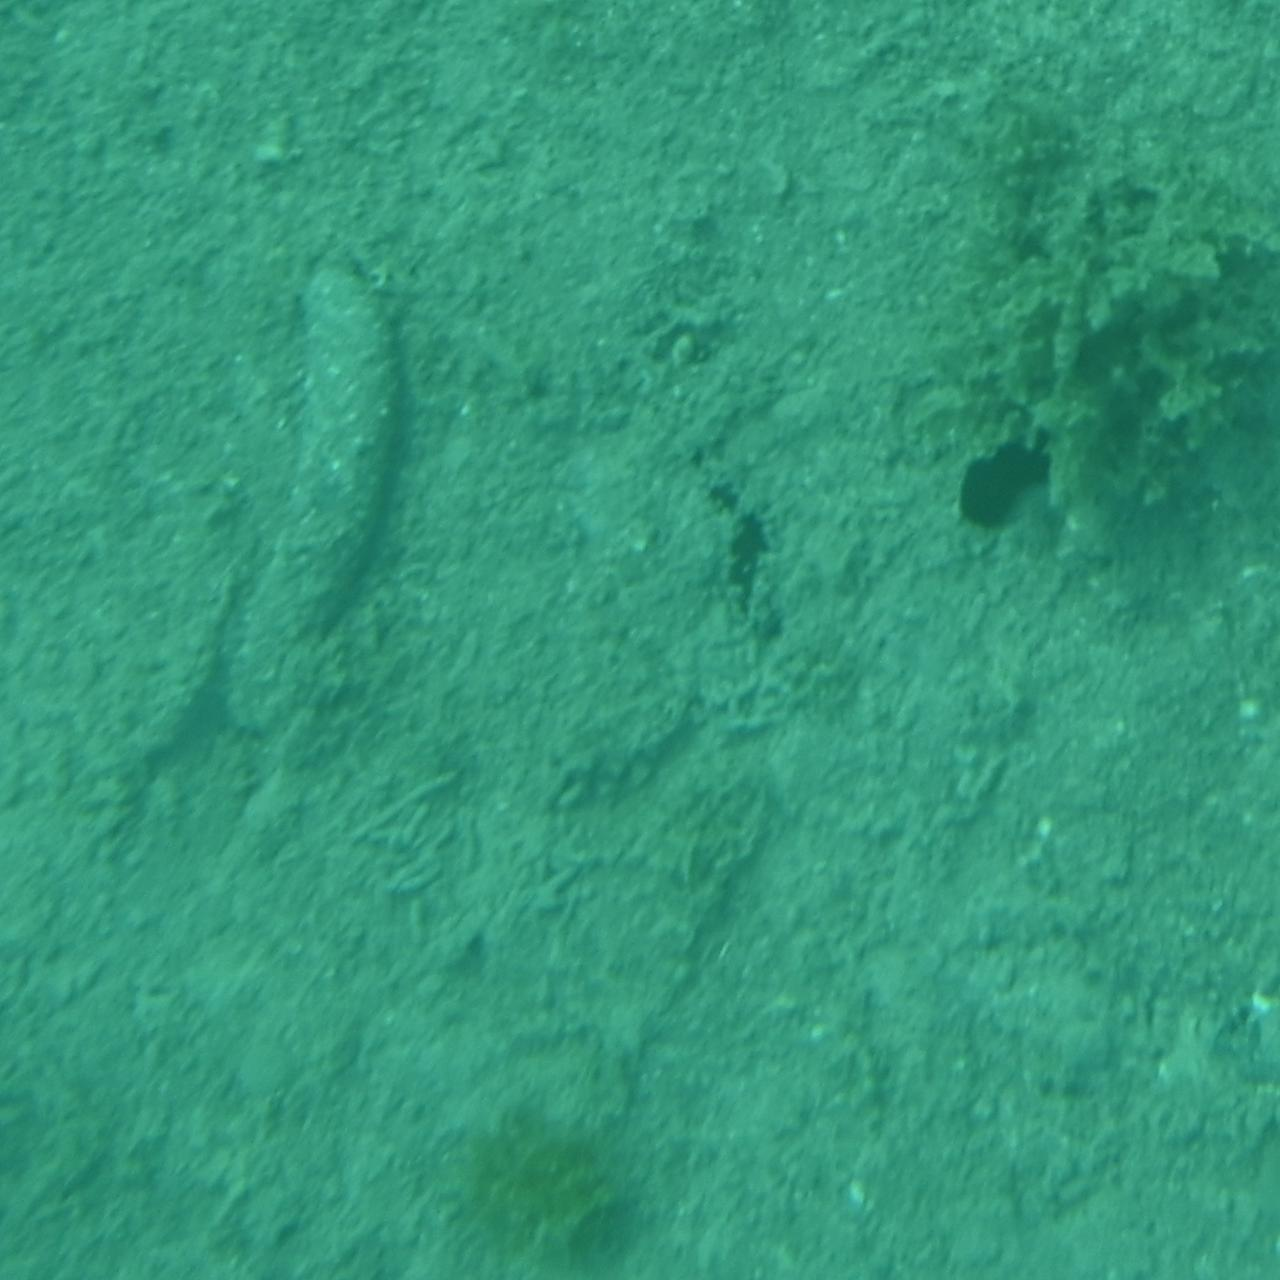Holothuria tubulosa: (213, 246, 425, 758), (0, 136, 284, 302), (1098, 690, 1280, 941), (1091, 971, 1280, 1152)
Phaeophyceae -cfr Cystoseira-: (928, 49, 1280, 597)
